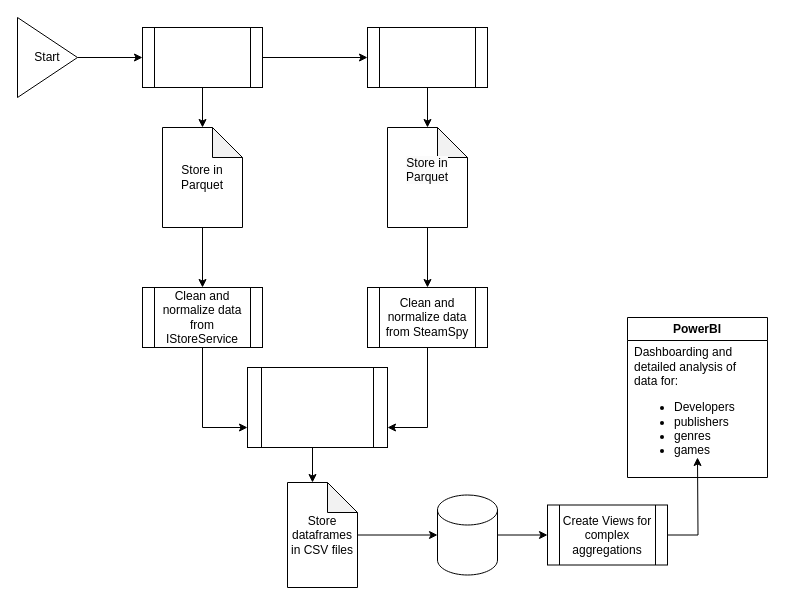
The diagram is 785 pixels wide and 605 high, and some of its shapes have lost their labels. The shapes that lost their labels are listed below. From the top down, each one's box as (x1, y1, x2, y2) in pixels, then its label:
(142, 26, 262, 88): Pull IStoreService Data
(366, 26, 488, 88): Pull SteamSpy data w/ valid AppIds
(246, 366, 388, 448): Combine data for star schema
(436, 494, 498, 575): Store in MySQL DB
